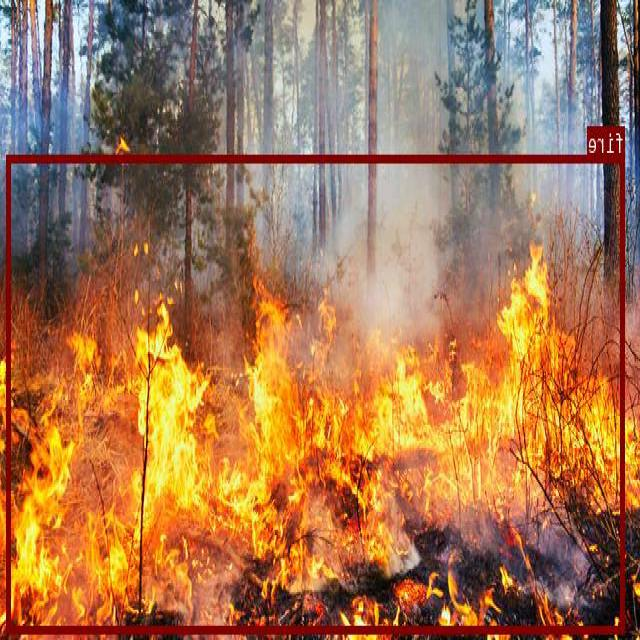fire: (8, 154, 625, 631)
